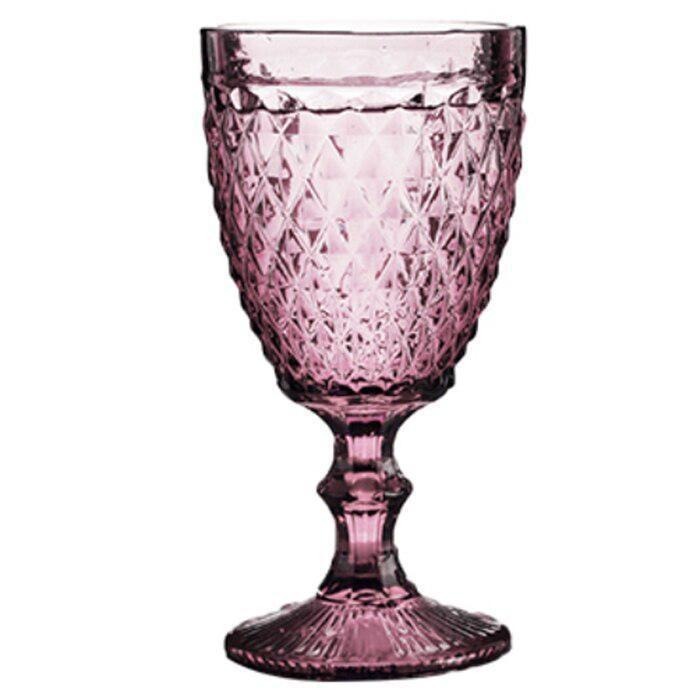glass-wine: (199, 20, 532, 687)
